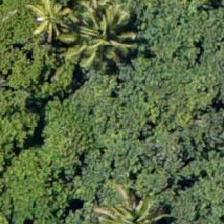coconut_tree: (67, 0, 157, 89), (0, 0, 79, 58)
